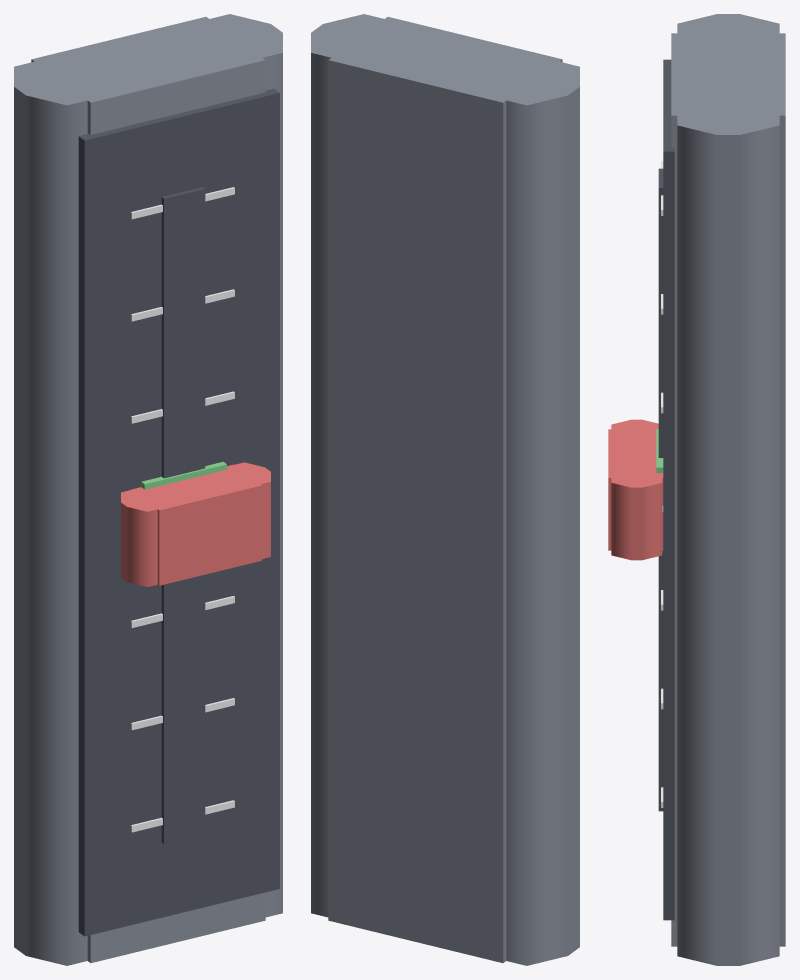
Rendered from prop_slider_lever.glb.
3 views of the same model, side by side, from view 1: azimuth 30°, elevation 25°; view 2: azimuth 150°, elevation 25°; view 3: azimuth 270°, elevation 25° (orthographic). The views are drawn at different scales.
Parts seen in each view (by area): view 1: prop_slider_lever, slider_handle, target_zone; view 2: prop_slider_lever; view 3: prop_slider_lever, slider_handle.
Boxes of the visible parts, x1=… form: prop_slider_lever: x1=14, y1=14, x2=282, y2=965; slider_handle: x1=121, y1=462, x2=270, y2=586; target_zone: x1=141, y1=461, x2=226, y2=489; prop_slider_lever: x1=311, y1=14, x2=579, y2=965; prop_slider_lever: x1=658, y1=14, x2=785, y2=965; slider_handle: x1=608, y1=419, x2=663, y2=560.
Bounding box in the file's own units: 0.25 × 0.8 × 0.155.
